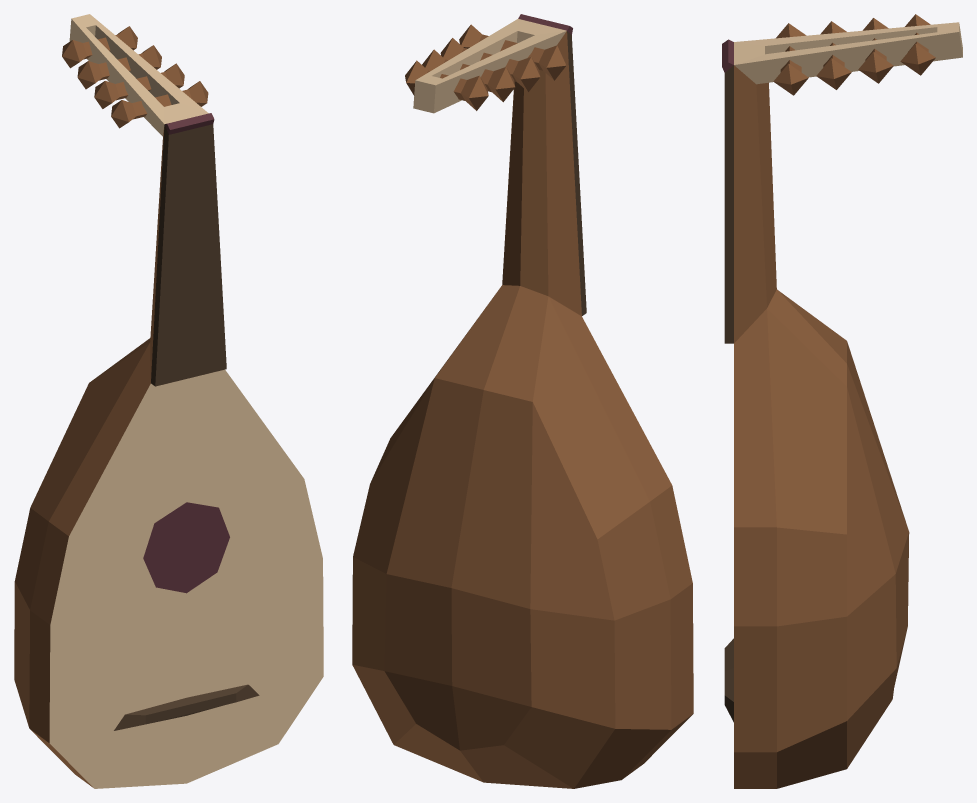
Rendered from guitar-lute.fbx.
The picture shows the model from 3 angles, left to right: view 1: azimuth 30°, elevation 25°; view 2: azimuth 150°, elevation 25°; view 3: azimuth 270°, elevation 25°; orthographic projection. The views are drawn at different scales.
Parts seen in each view (by area): view 1: guitar-lute; view 2: guitar-lute; view 3: guitar-lute.
Part boxes in pixels (x1=…): guitar-lute: x1=14, y1=14, x2=323, y2=788; guitar-lute: x1=352, y1=14, x2=693, y2=788; guitar-lute: x1=722, y1=14, x2=962, y2=788.
Size of the model in its own units: 0.2481 by 0.5963 by 0.1777.
